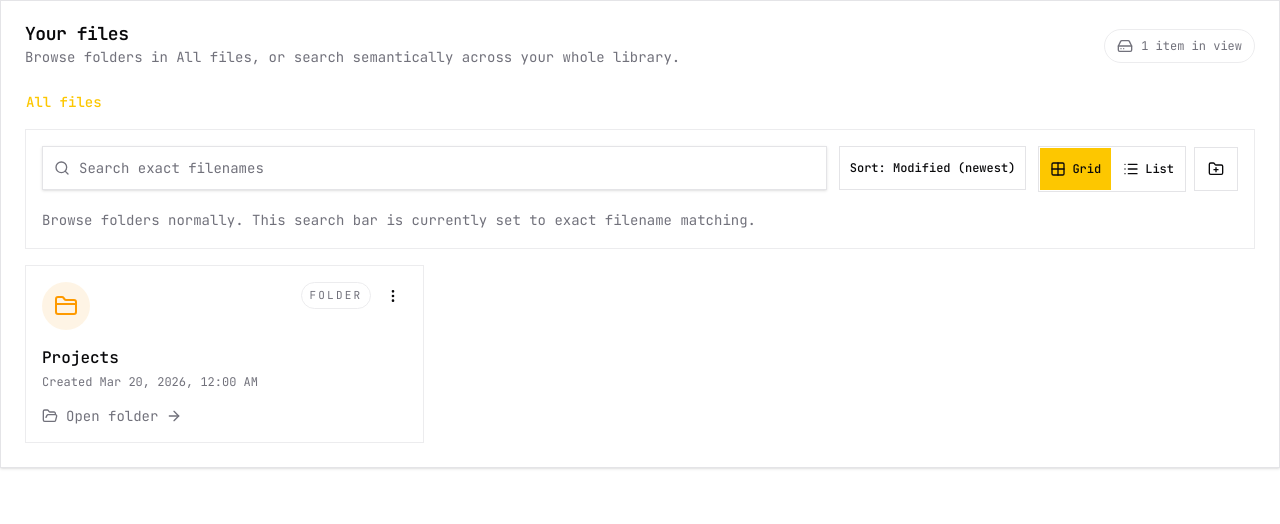
Test: FilesLibrary › shows filename search results and opens the matching folder back in explorer mode
Type "inside" into the field named "Search filenames" at (434, 168), box left=42, top=146, right=827, bottom=190
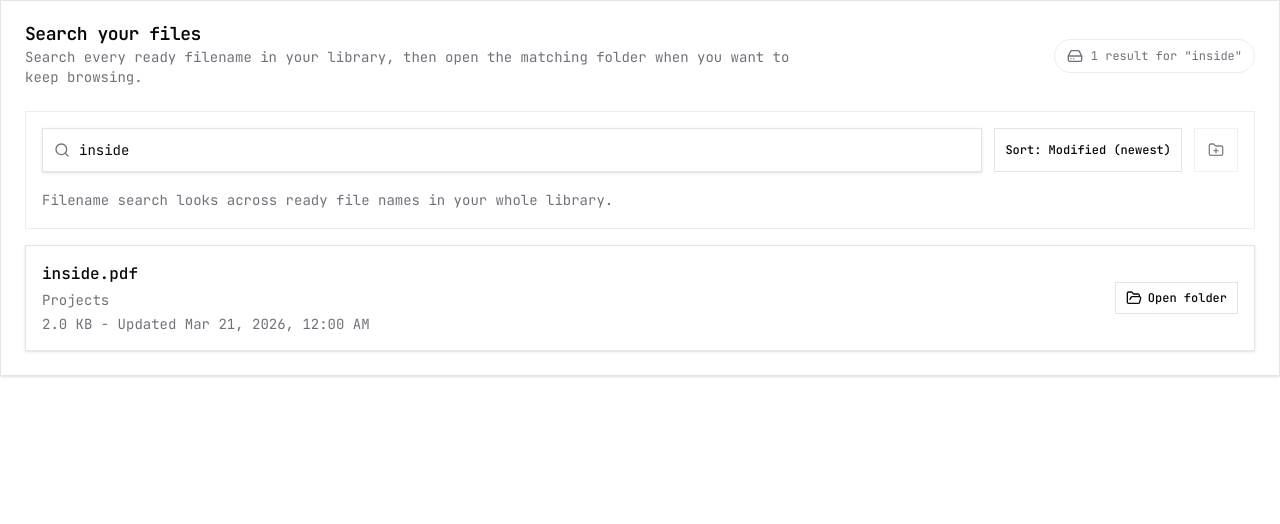
Expected: the text "Projects" is shown, left=42, top=291, right=109, bottom=309
Click the button "Open folder" at (1176, 298), box left=1115, top=282, right=1238, bottom=314
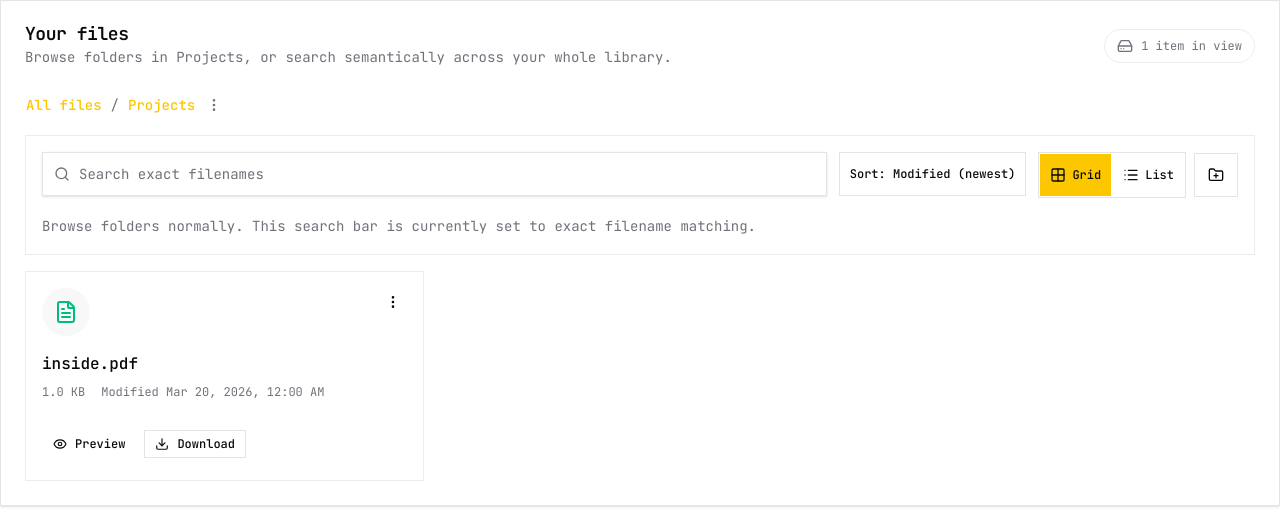
Expected: the field with placeholder "Search exact filenames" is shown, left=42, top=152, right=827, bottom=196
Result: the button "inside.pdf" is shown at left=42, top=352, right=138, bottom=376
Result: the button "Open folder" is gone
